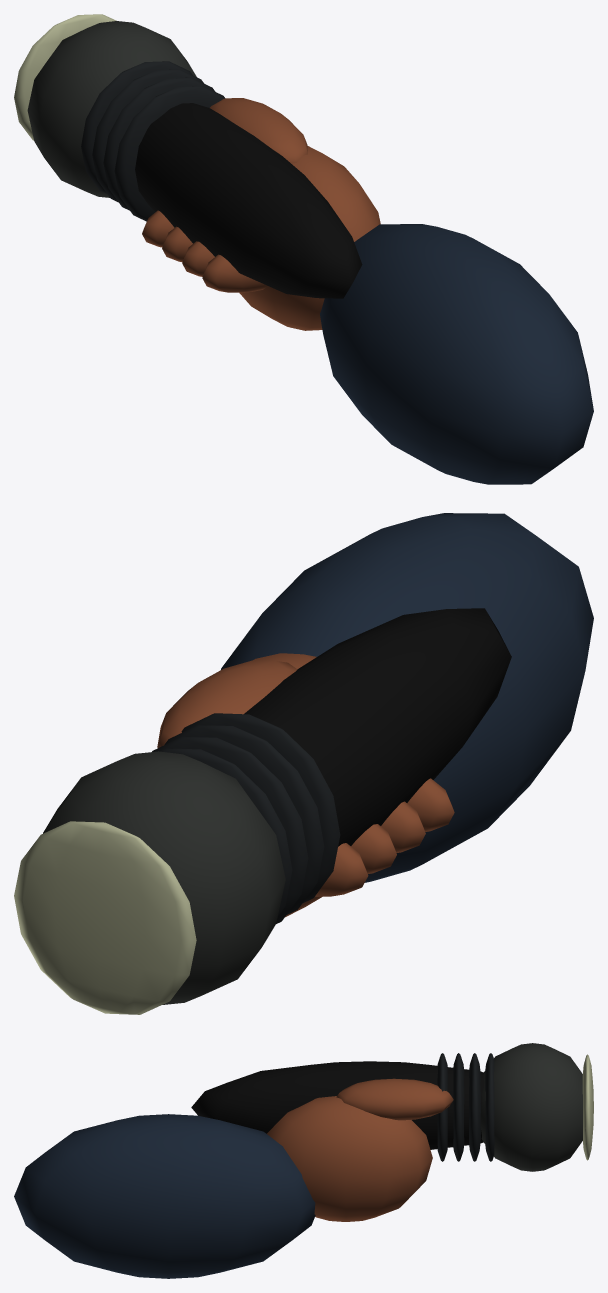
The model's file is raka_first_person_hands.glb.
3 views of the same model, one above another, from view 1: azimuth 30°, elevation 25°; view 2: azimuth 150°, elevation 25°; view 3: azimuth 270°, elevation 25° (orthographic). The views are drawn at different scales.
Parts seen in each view (by area): view 1: Gagang senter; view 2: Gagang senter; view 3: Gagang senter.
Boxes of the visible parts, x1,y1,x2,y2 form: Gagang senter: [14, 14, 593, 484]; Gagang senter: [14, 513, 593, 1014]; Gagang senter: [14, 1043, 593, 1278].
Bounding box in the file's own units: 0.132 × 0.132 × 0.36.
